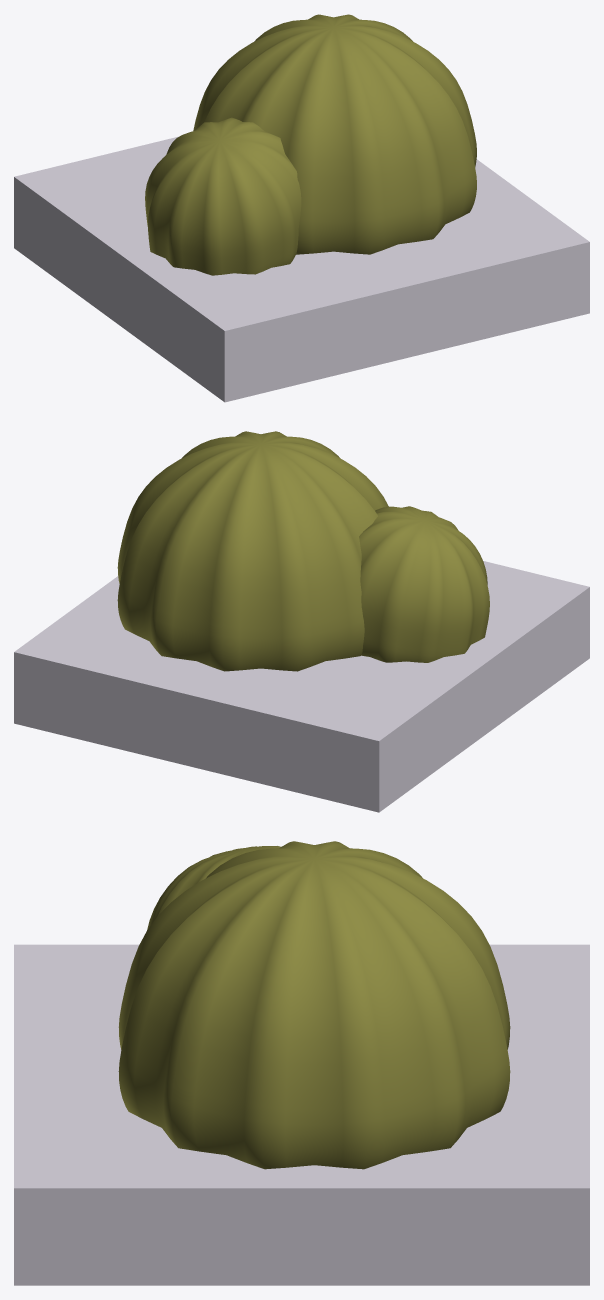
Rendered from desert_grass.fbx.
3 renders of one model, top to bottom at view 1: azimuth 30°, elevation 25°; view 2: azimuth 150°, elevation 25°; view 3: azimuth 270°, elevation 25°, orthographic. The views are drawn at different scales.
Parts seen in each view (by area): view 1: Cube.031, grass; view 2: Cube.031, grass; view 3: Cube.031, grass.
Part boxes in pixels (left/top/right/bottom): Cube.031: left=14, top=136, right=589, bottom=402; grass: left=145, top=14, right=476, bottom=275; Cube.031: left=14, top=561, right=589, bottom=812; grass: left=117, top=431, right=489, bottom=671; Cube.031: left=14, top=944, right=589, bottom=1285; grass: left=118, top=841, right=510, bottom=1169.
Size of the model in its own units: 130 by 82.04 by 130.
